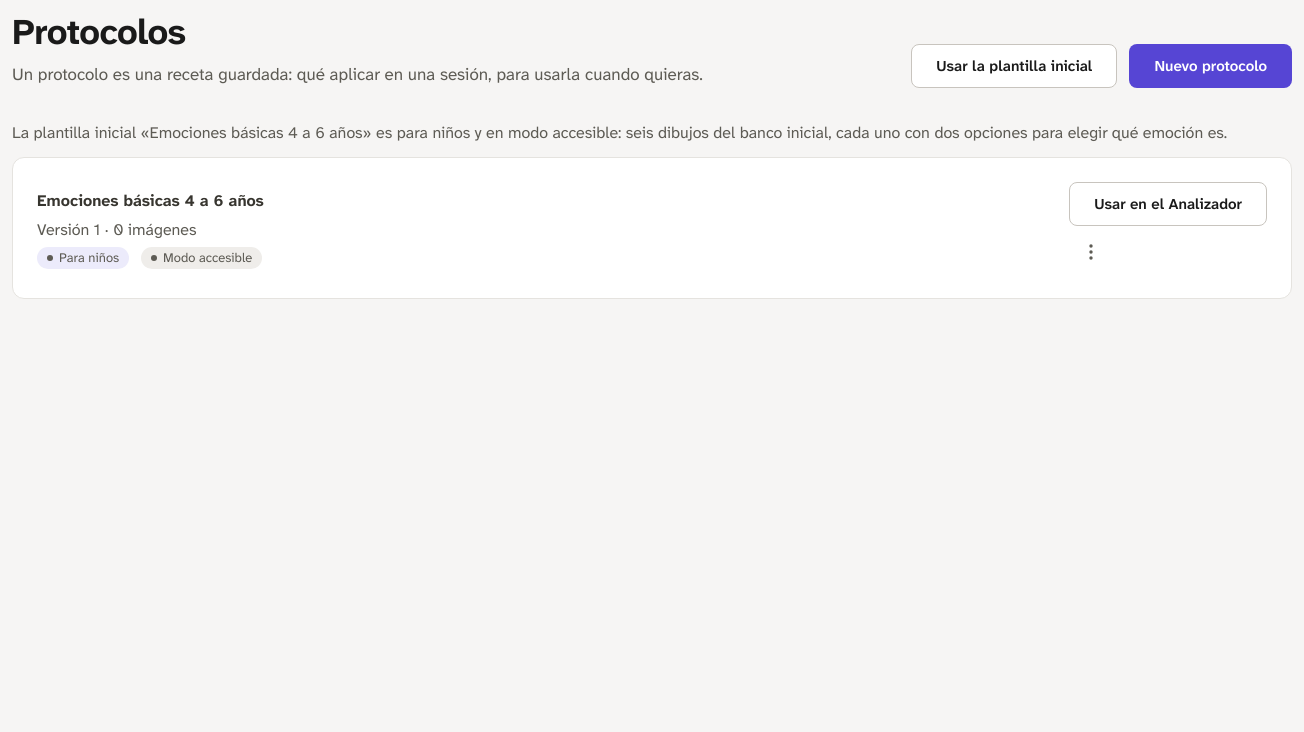
Test case: plantillas de protocolos › el docente comparte un protocolo suyo con su grupo y puede dejar de compartirlo
The width and height of the screenshot is (1304, 732).
Click the button named "Más acciones para «Emociones básicas 4 a 6 años»" at (1091, 252), box [1069,230,1113,274]
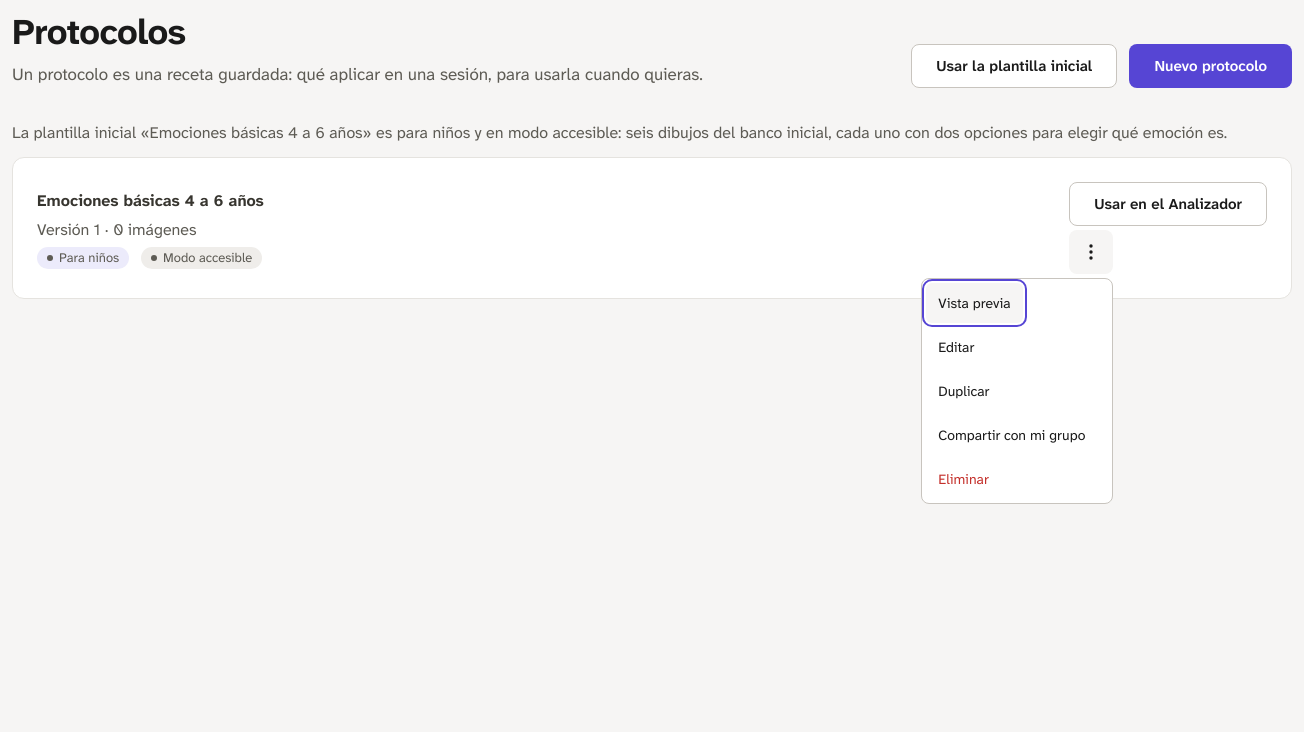
Click the menu item "Compartir con mi grupo" at (1012, 435), box [926,415,1097,455]
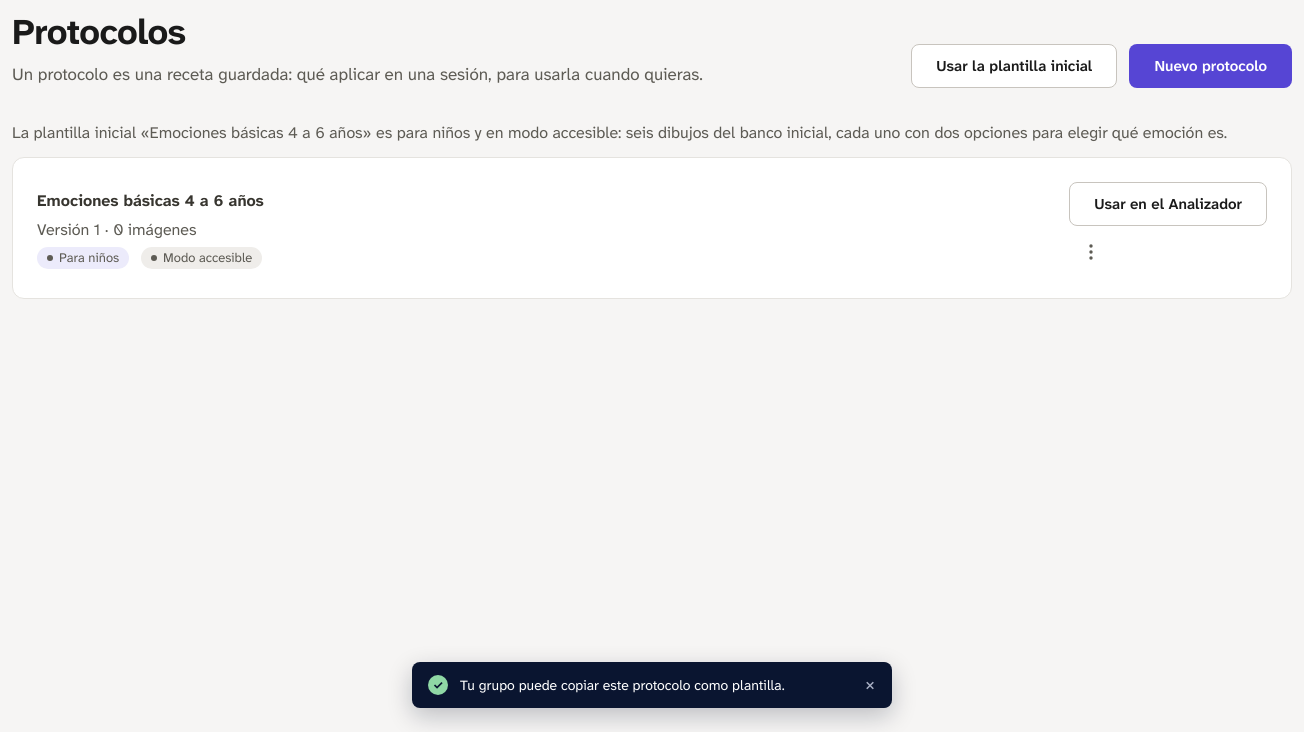
expect the text "Tu grupo puede copiar este protocolo como plantilla." is shown: met, box [460,676,785,694]
